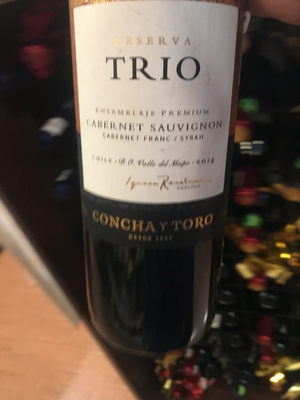trio cabernet sauvignon: (60, 2, 254, 355)
